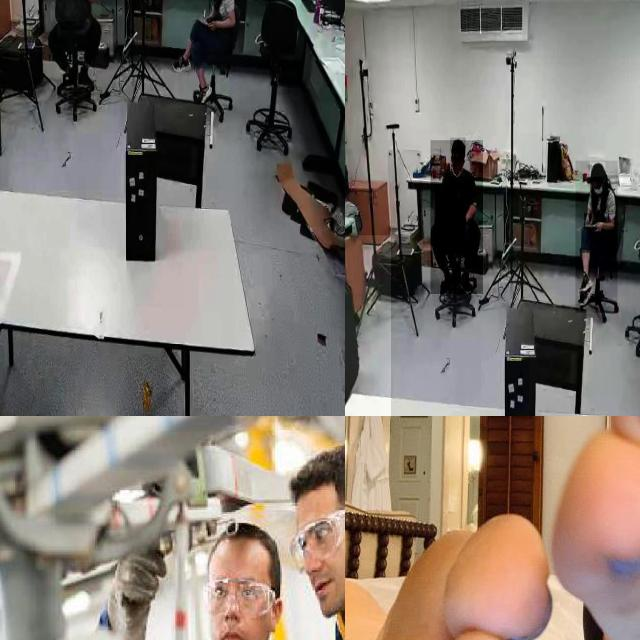Barefoots: (348, 513, 544, 640), (552, 416, 640, 640)
face_nomask: (450, 152, 464, 173)
glasses: (289, 502, 345, 573), (194, 572, 278, 619), (77, 63, 96, 90), (171, 50, 192, 74), (195, 76, 212, 103), (450, 151, 466, 165)
hand_noglove: (207, 18, 217, 33), (592, 220, 602, 233), (584, 213, 592, 226)
head_nohelmet: (201, 513, 290, 640), (286, 441, 345, 626), (590, 162, 606, 178), (450, 138, 466, 152)
person: (92, 510, 315, 640), (431, 140, 484, 295), (175, 0, 239, 108), (576, 160, 618, 314), (50, 0, 101, 22)
shoes: (438, 268, 454, 294), (460, 272, 476, 298), (578, 268, 594, 294), (578, 285, 592, 313)
